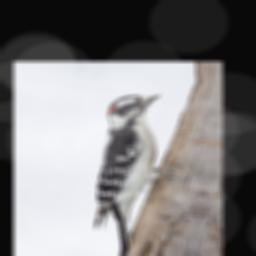Woodpecker: (79, 86, 204, 256)
